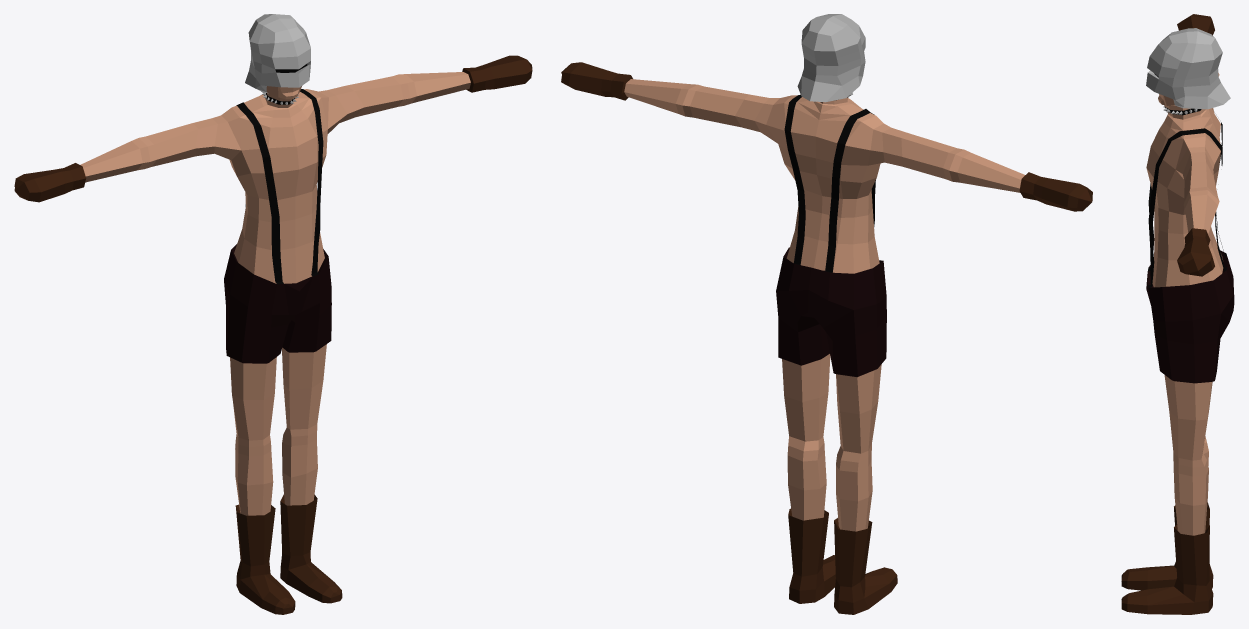
The model's file is darkfistexport.fbx.
3 views of the same model, side by side, from view 1: azimuth 30°, elevation 25°; view 2: azimuth 150°, elevation 25°; view 3: azimuth 270°, elevation 25° (orthographic). The views are drawn at different scales.
Parts seen in each view (by area): view 1: van.001; view 2: van.001; view 3: van.001.
Part boxes in pixels (left/top/right/bottom): van.001: left=14, top=14, right=532, bottom=614; van.001: left=561, top=14, right=1092, bottom=614; van.001: left=1121, top=14, right=1234, bottom=614.
Bounding box in the file's own units: 49.68 × 52.12 × 9.43.
